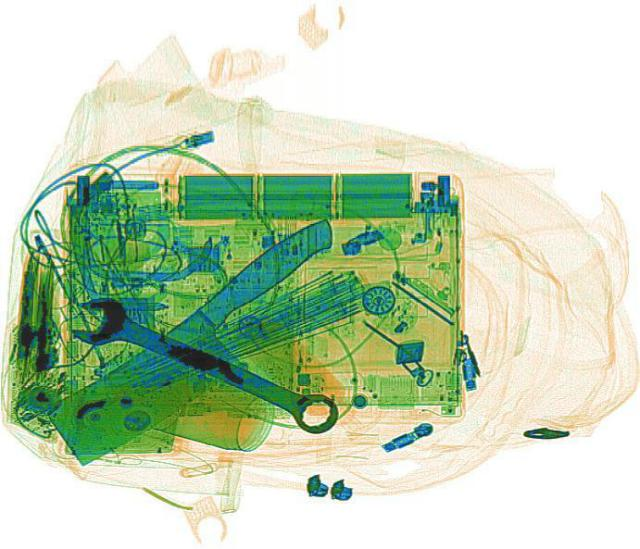Knife: (19, 214, 388, 467)
Wrench: (58, 287, 354, 436)
